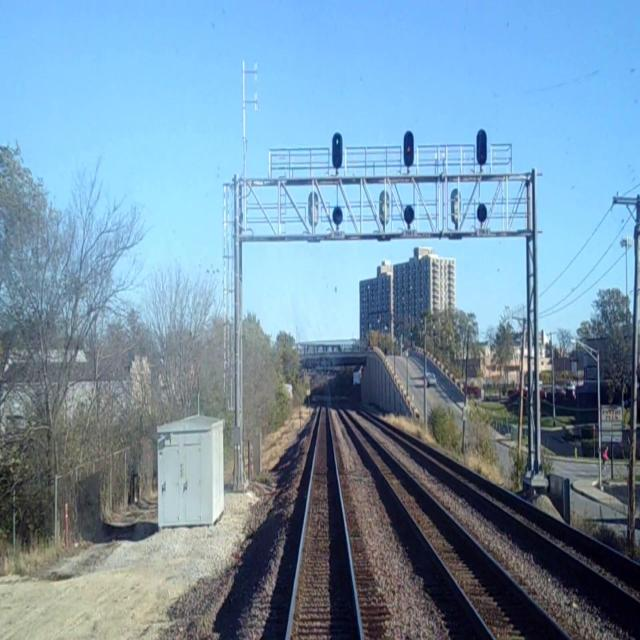rail-track: (344, 412, 563, 639), (290, 402, 359, 639)
